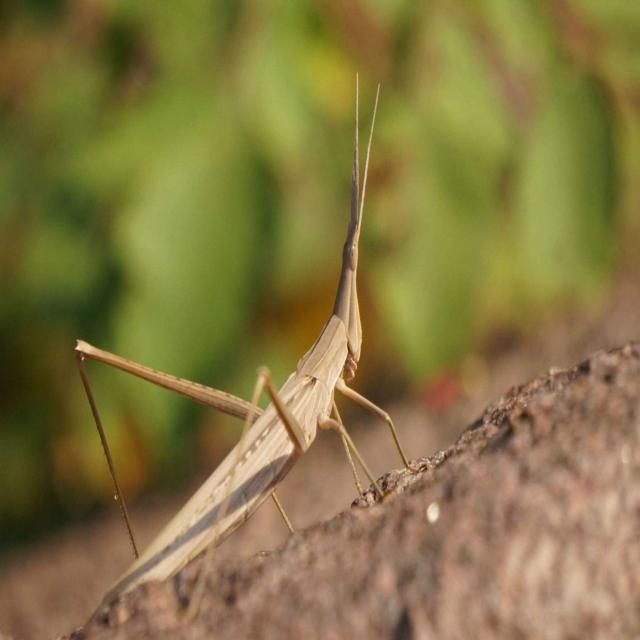ZhaMeng: (72, 74, 384, 599)
